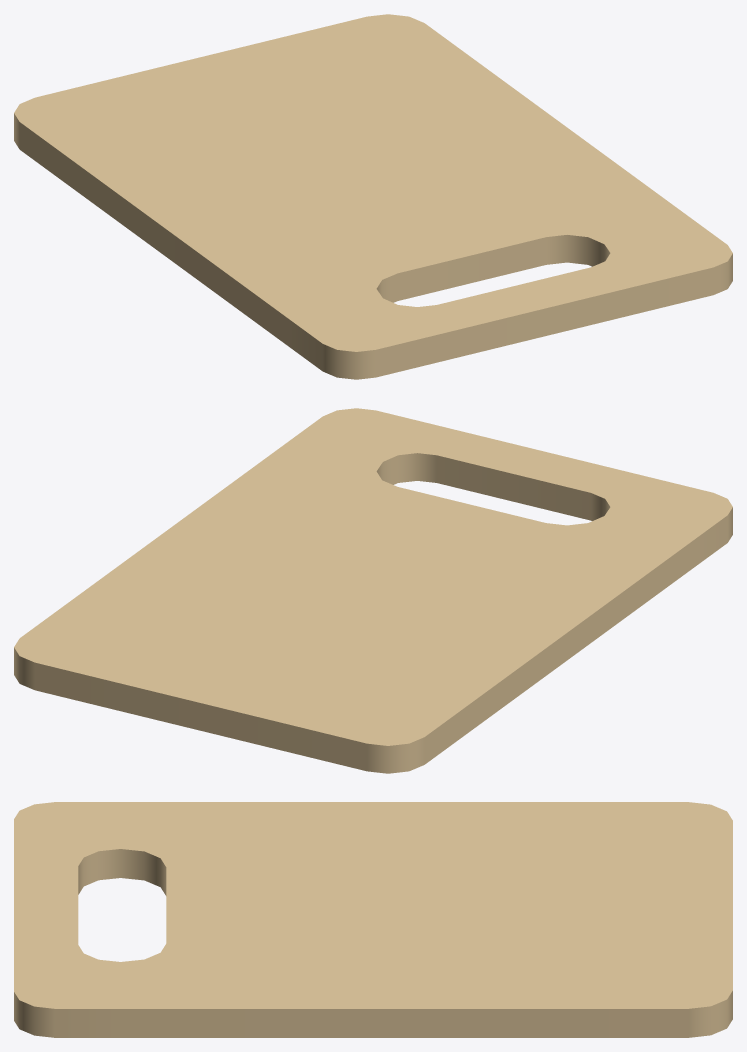
File: deck.fbx
The picture shows the model from 3 angles, top to bottom: view 1: azimuth 30°, elevation 25°; view 2: azimuth 150°, elevation 25°; view 3: azimuth 270°, elevation 25°; orthographic projection. The views are drawn at different scales.
Parts seen in each view (by area): view 1: deck; view 2: deck; view 3: deck.
Part boxes in pixels (bbox=[...]): deck: bbox=[14, 14, 732, 379]; deck: bbox=[14, 408, 732, 773]; deck: bbox=[14, 802, 732, 1037].
Bounding box in the file's own units: 26.44 × 1.73 × 38.87.
